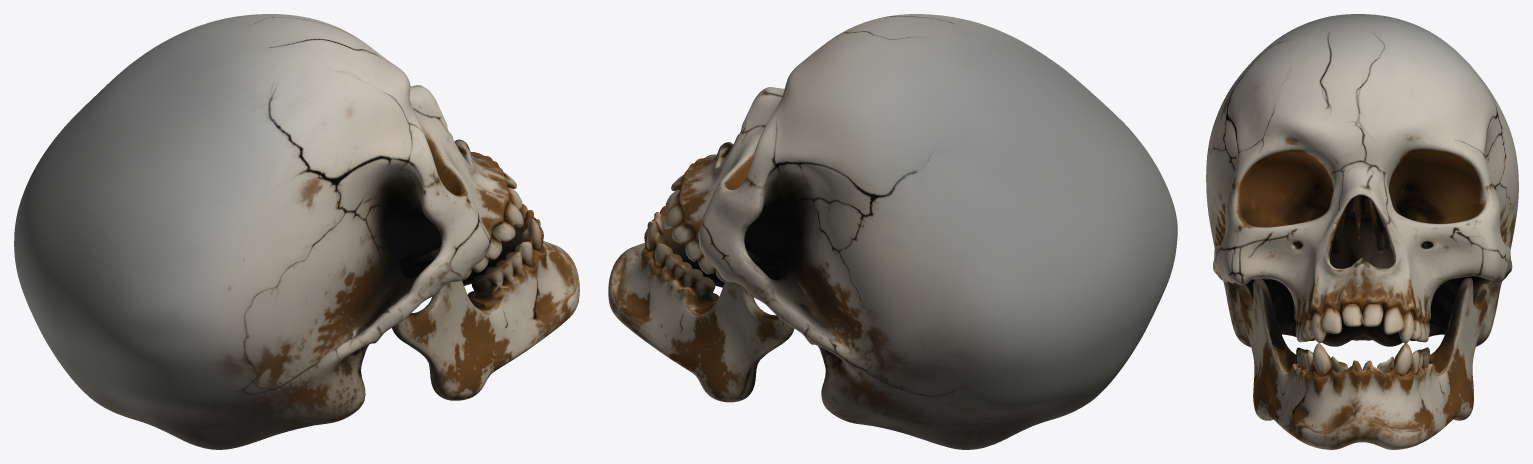
The model's file is skull.glb.
3 views of the same model, side by side, from view 1: azimuth 30°, elevation 25°; view 2: azimuth 150°, elevation 25°; view 3: azimuth 270°, elevation 25° (orthographic). The views are drawn at different scales.
Visible parts, largest first — view 1: node_0; view 2: node_0; view 3: node_0.
Boxes of the visible parts, bbox=[...] form: node_0: bbox=[14, 14, 579, 449]; node_0: bbox=[608, 14, 1177, 449]; node_0: bbox=[1206, 14, 1518, 449].
Size of the model in its own units: 1.08 by 0.7366 by 0.6422.
1 material, 1 textured.
